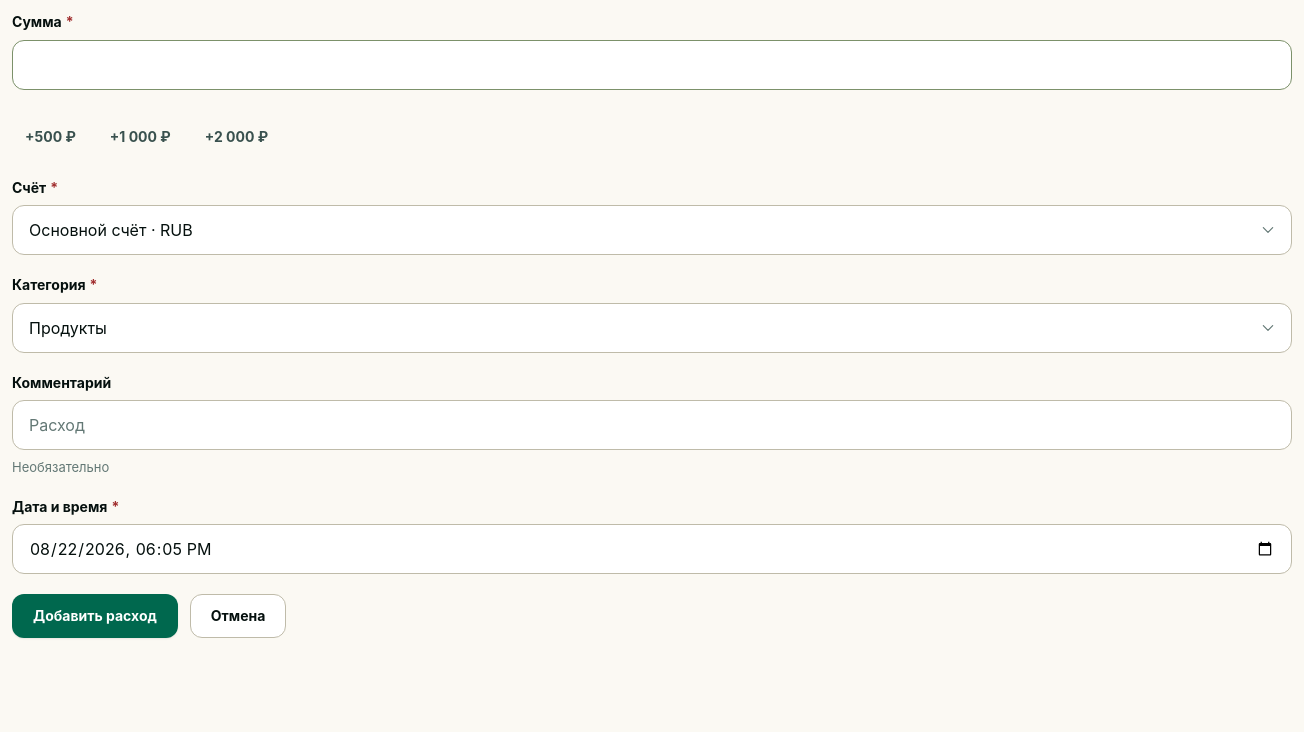
it: OperationForm › shows the server error message
Type "999999" into the field with test id "operation-amount". click: (652,65)
box: x1=12 y1=40 x2=1292 y2=90
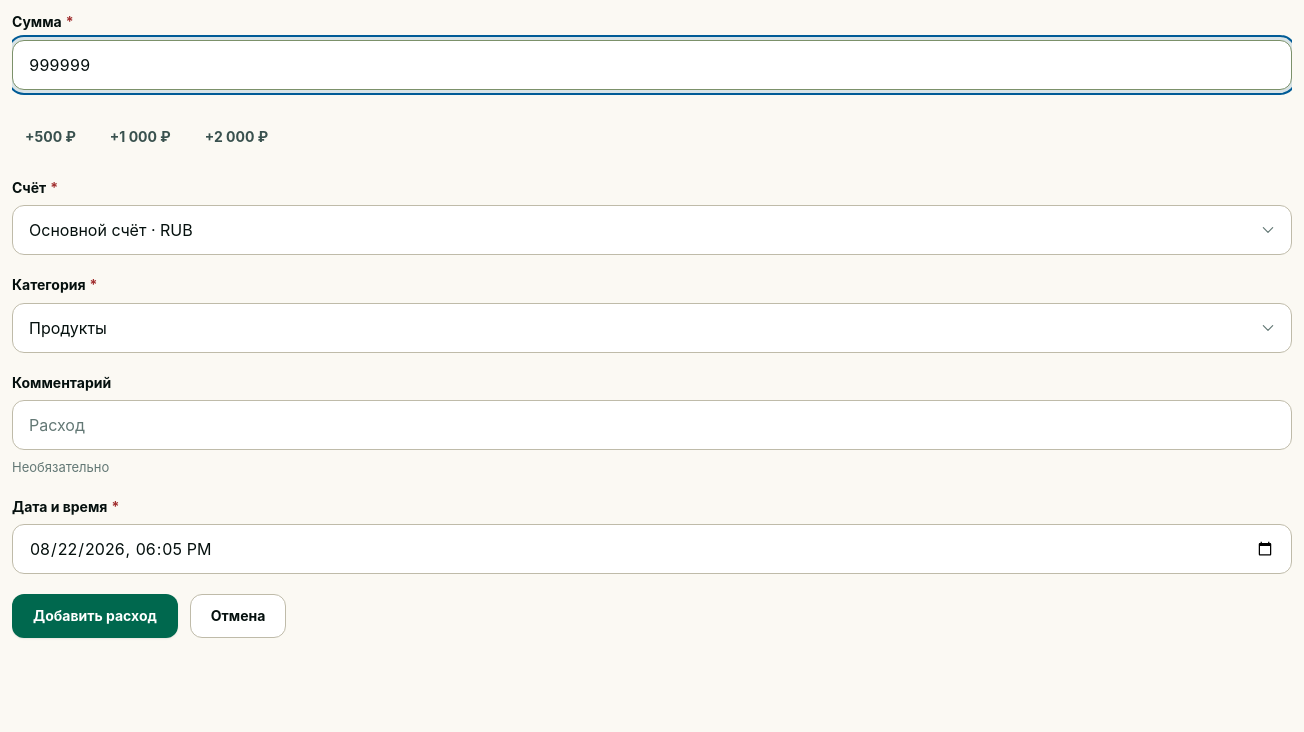
Click the button "Добавить расход". click: (95,616)
box: x1=12 y1=594 x2=178 y2=638
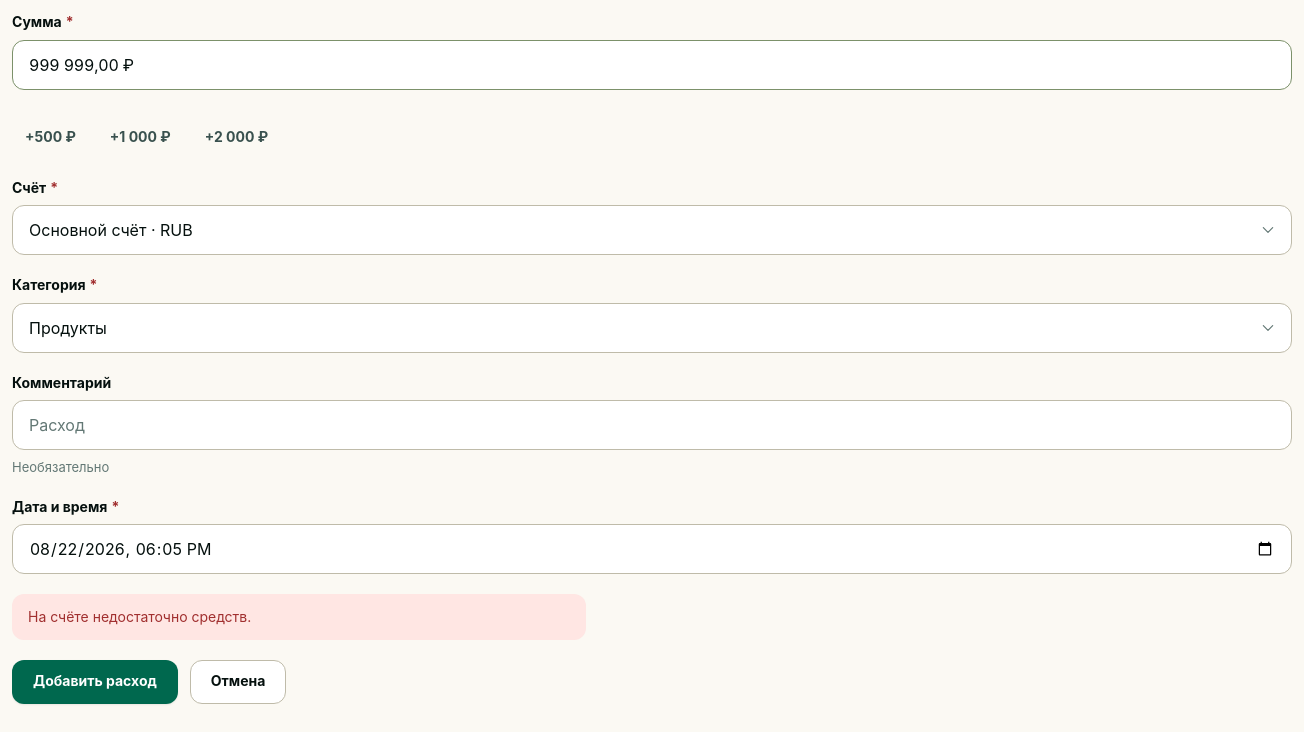
Check: the text "На счёте недостаточно средств." is shown, box x1=12 y1=594 x2=586 y2=640
